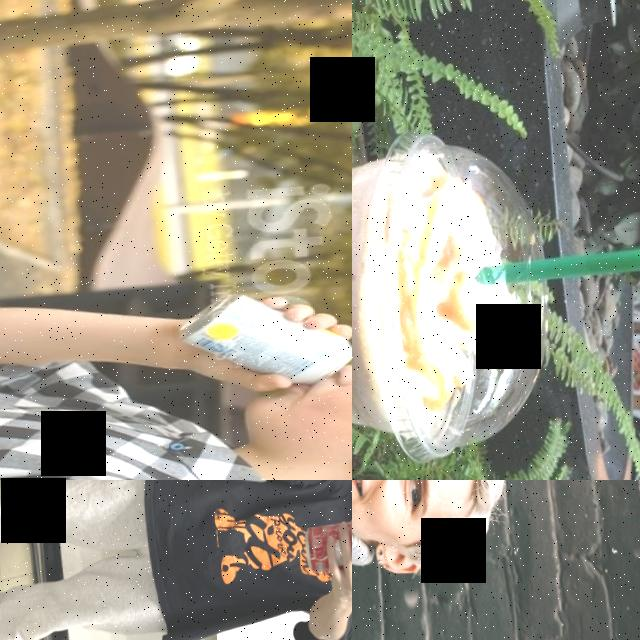can: (170, 283, 352, 395), (301, 512, 352, 575)
cup: (352, 127, 558, 476)
